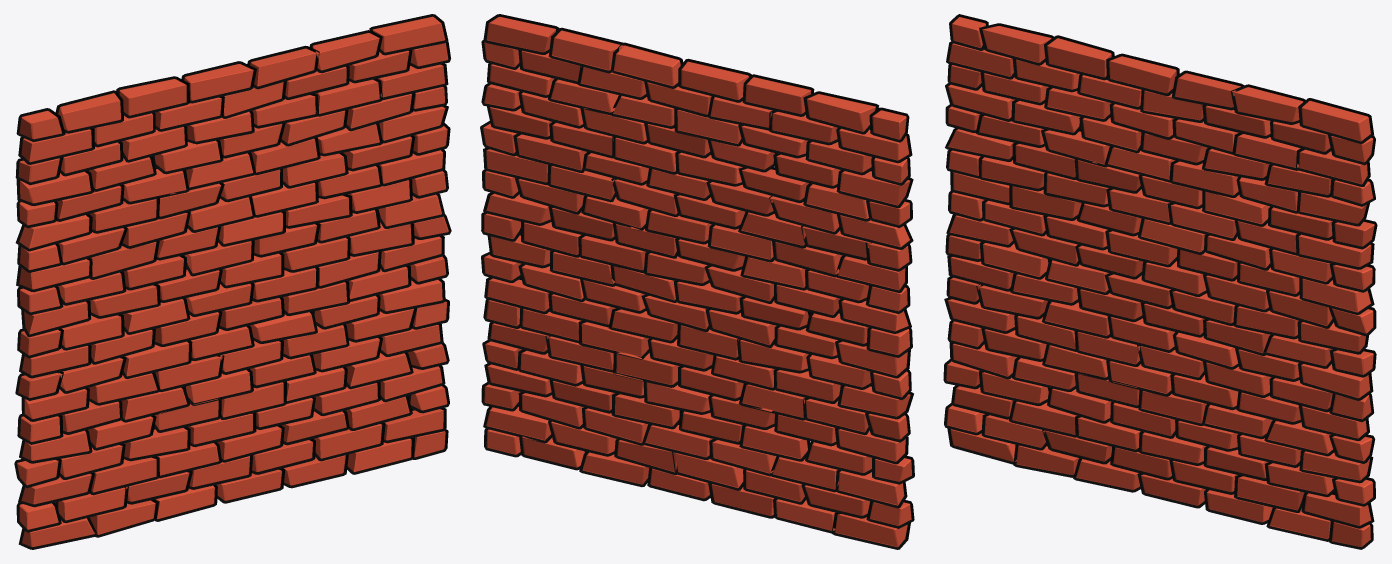
The model's file is pared de ladrillos.fbx.
3 renders of one model, left to right at view 1: azimuth 30°, elevation 25°; view 2: azimuth 150°, elevation 25°; view 3: azimuth 330°, elevation 25°, orthographic.
Parts seen in each view (by area): view 1: pared de ladrillos.025; view 2: pared de ladrillos.025; view 3: pared de ladrillos.025.
Boxes of the visible parts, x1,y1,x2,y2 form: pared de ladrillos.025: (14,14,451,549); pared de ladrillos.025: (480,14,914,549); pared de ladrillos.025: (943,14,1377,549).
Bounding box in the file's own units: 260 × 252 × 14.44.
